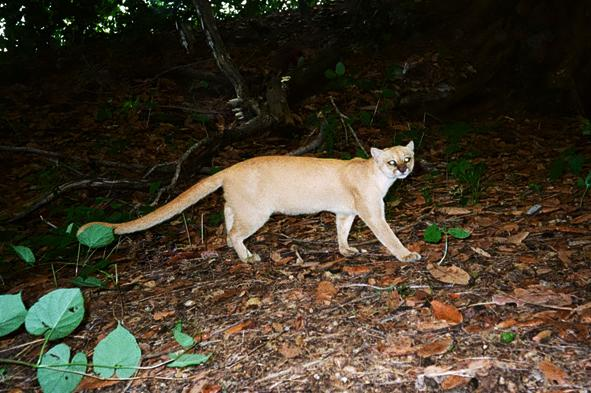Jaguarundi: (72, 139, 432, 269)
